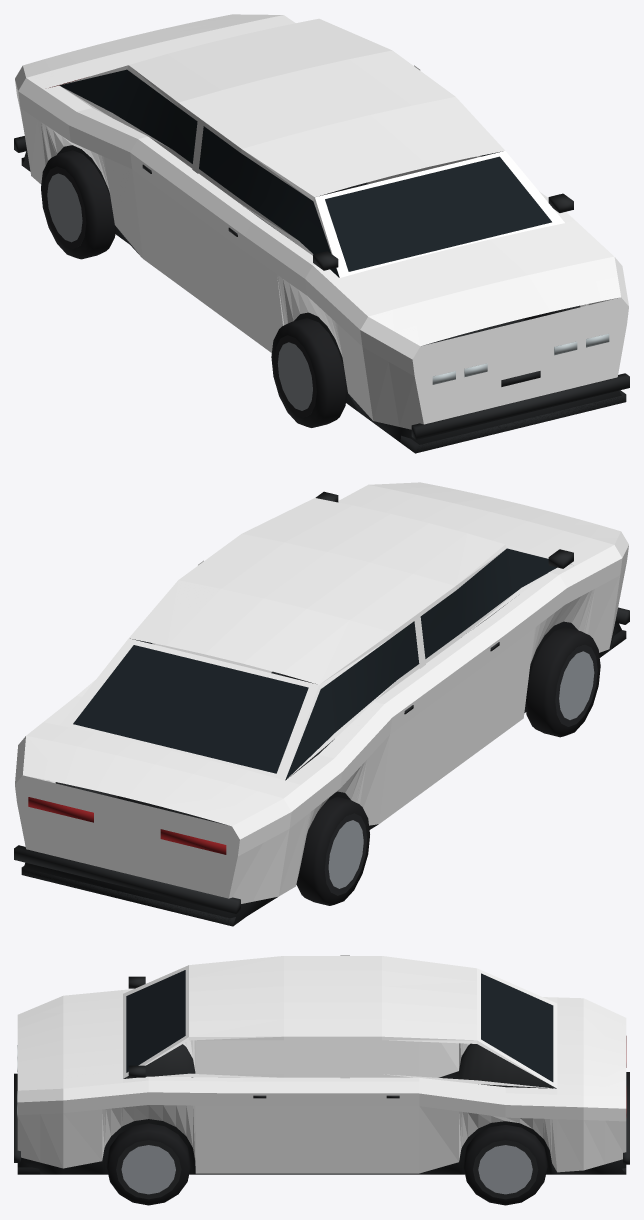
The model's file is lindauer_margem.glb.
3 renders of one model, top to bottom at view 1: azimuth 30°, elevation 25°; view 2: azimuth 150°, elevation 25°; view 3: azimuth 270°, elevation 25°, orthographic. The views are drawn at different scales.
Parts seen in each view (by area): view 1: Body_Paint, Body_Details, Mount_FrontLeft_Wheel_Details, Mount_RearLeft_Wheel_Details; view 2: Body_Paint, Body_Details, Mount_FrontLeft_Wheel_Details, Mount_RearLeft_Wheel_Details; view 3: Body_Paint, Body_Details, Mount_FrontRight_Wheel_Details, Mount_RearRight_Wheel_Details.
Part boxes in pixels (x1,y1,x2,y2): Body_Paint: (15,14,628,429); Body_Details: (14,69,629,453); Mount_FrontLeft_Wheel_Details: (271,318,347,427); Mount_RearLeft_Wheel_Details: (41,150,116,259); Body_Paint: (15,482,628,903); Body_Details: (14,491,629,926); Mount_FrontLeft_Wheel_Details: (525,627,600,737); Mount_RearLeft_Wheel_Details: (296,797,369,905); Body_Paint: (17,955,626,1173); Body_Details: (14,970,629,1174); Mount_FrontRight_Wheel_Details: (106,1123,190,1205); Mount_RearRight_Wheel_Details: (463,1125,547,1205).
Size of the model in its own units: 1.94 by 1.37 by 4.76.
2 materials, 1 textured.
